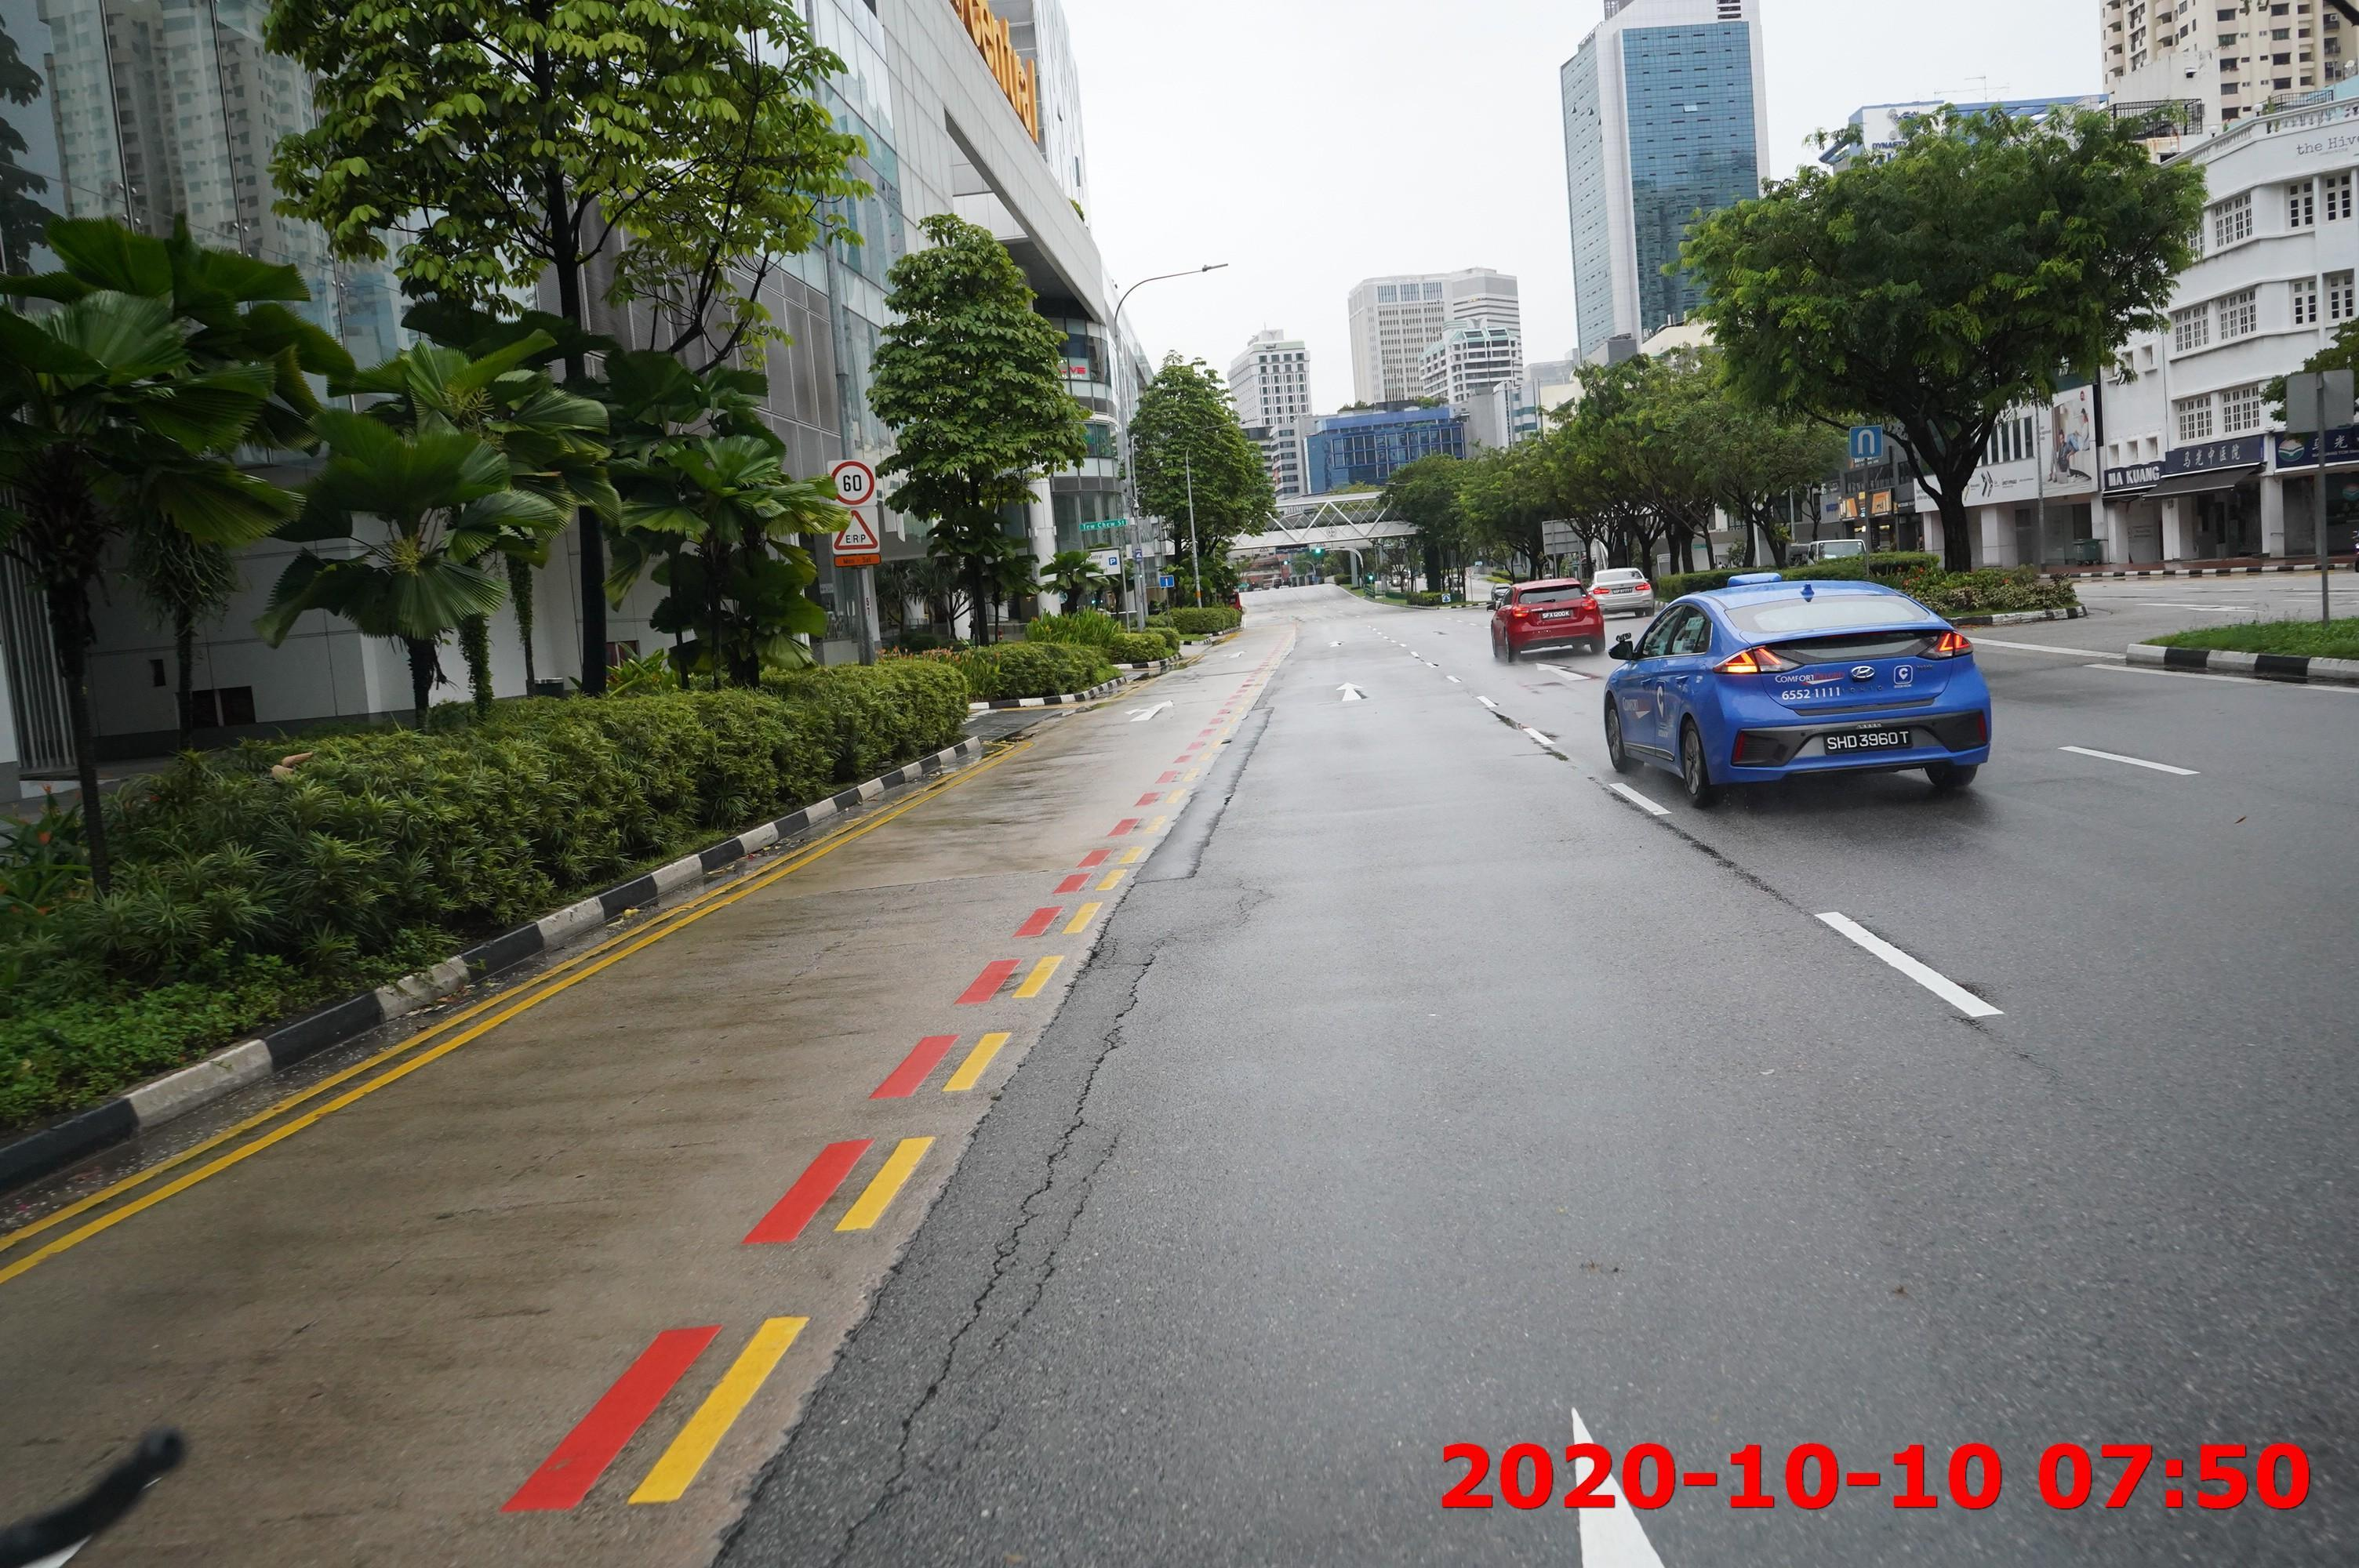multi crack: (847, 971, 1143, 1542)
